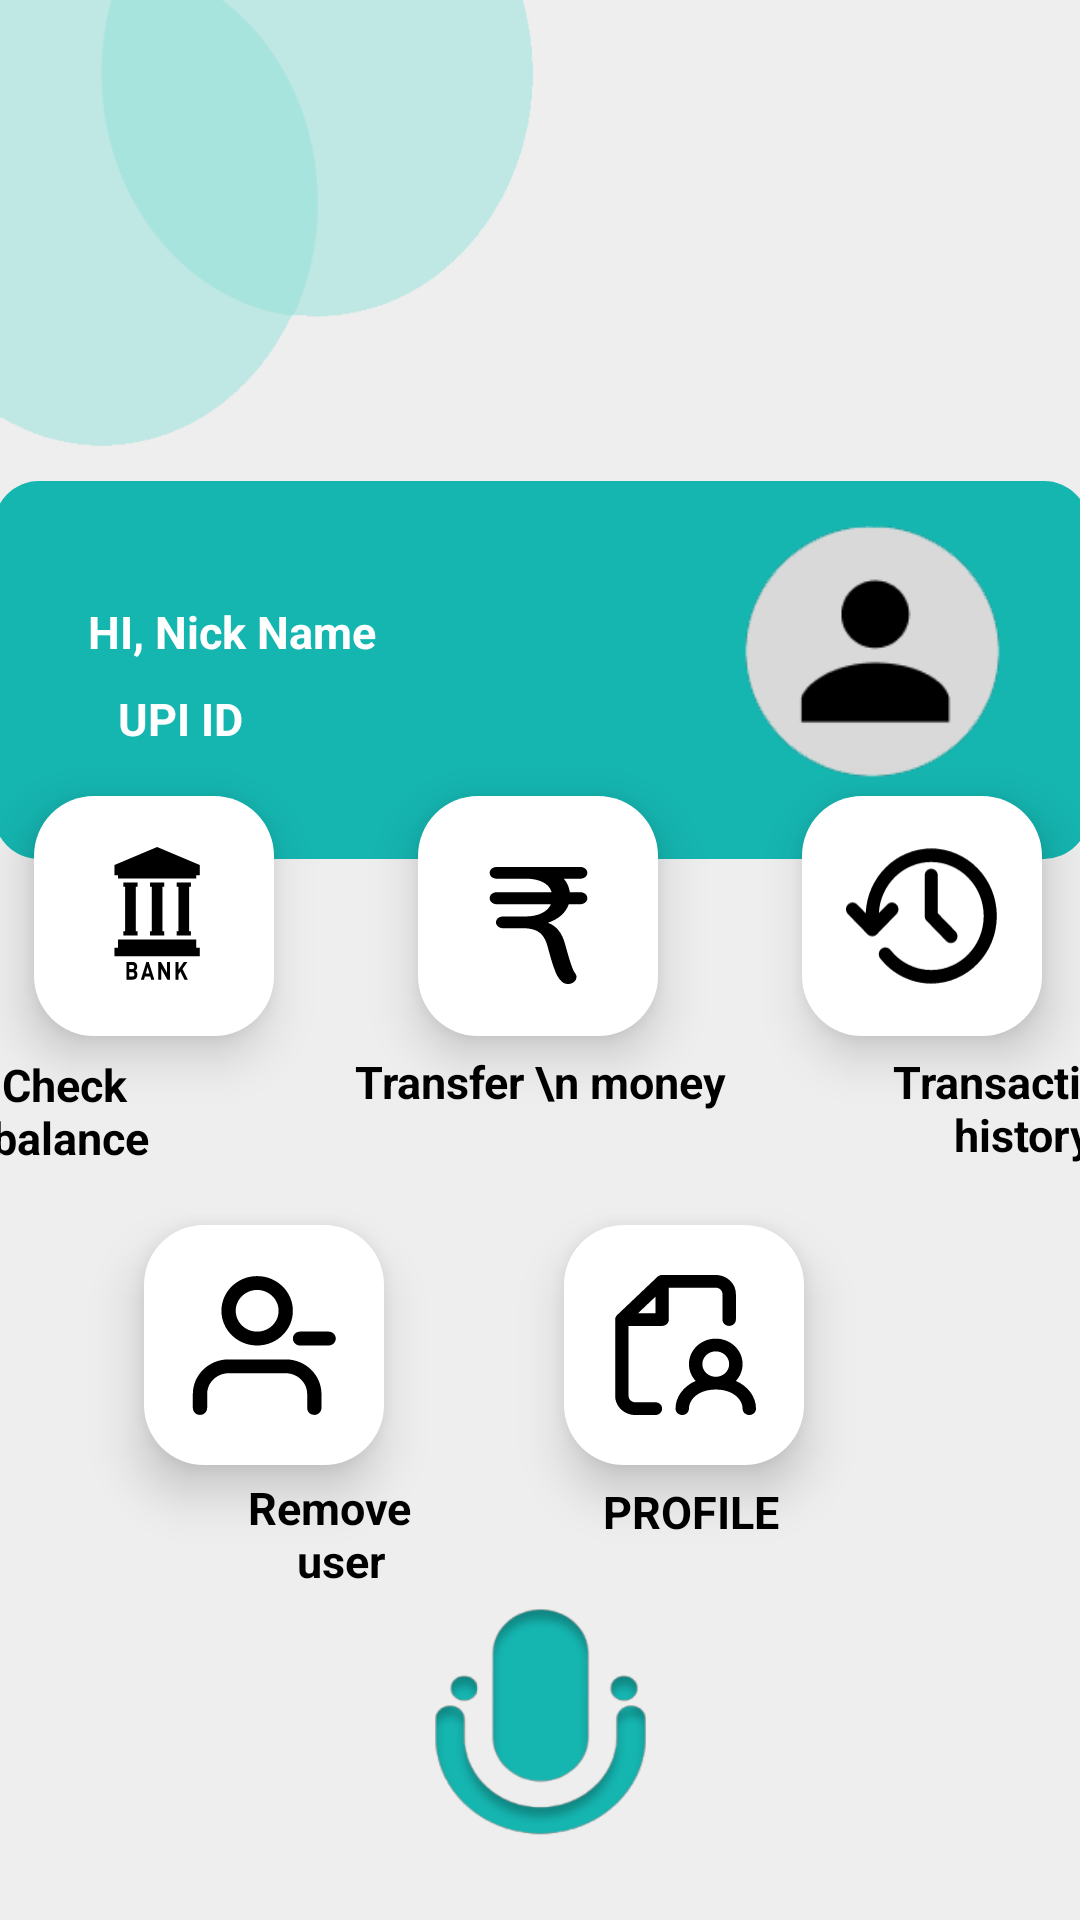

Icons on this 1080px×1920px Android screen, each with the point to tap as [x,y]:
mic: [496,1694]
